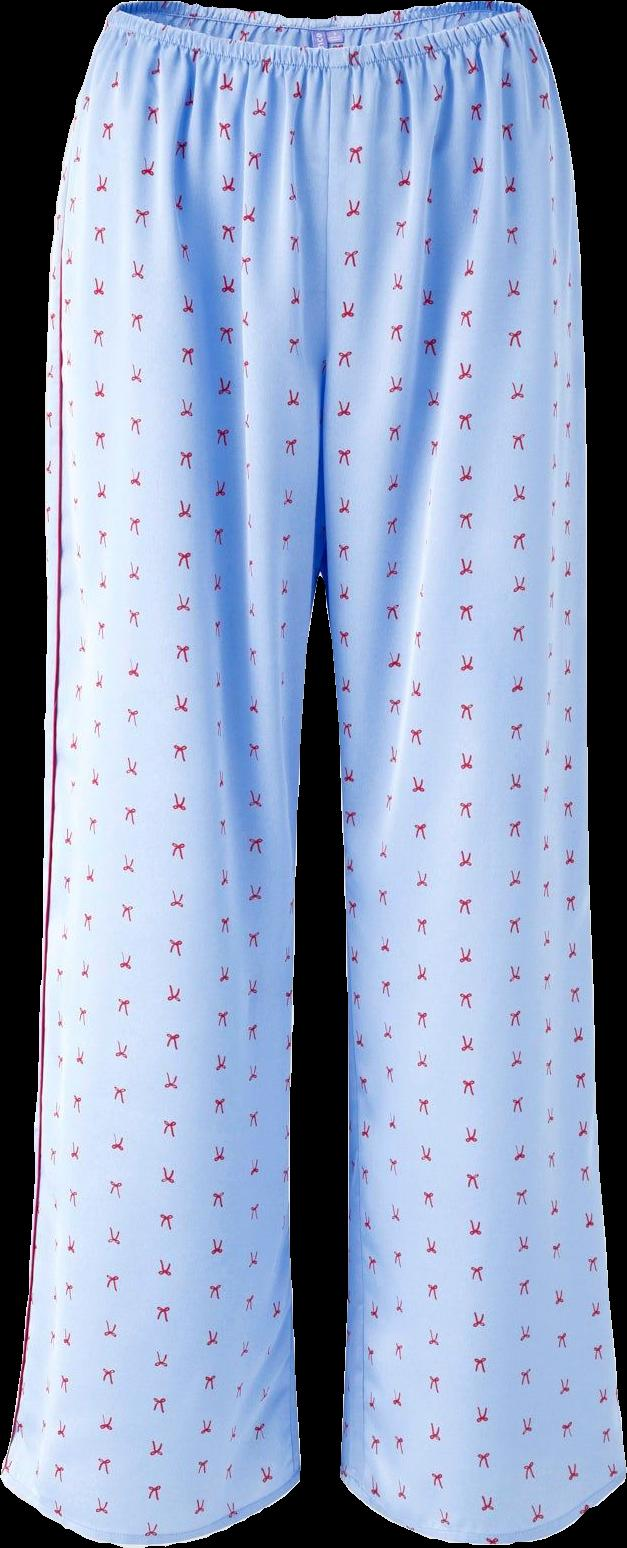Hemline: (330, 1462, 626, 1547), (0, 1466, 303, 1546)
Pantleg: (1, 0, 316, 1545), (313, 0, 626, 1543)
Waistline: (110, 0, 528, 64)
